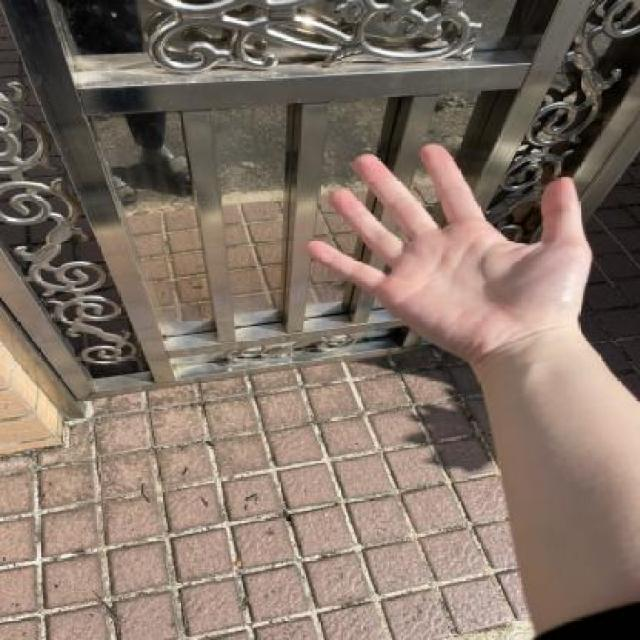hand: (293, 128, 610, 365)
